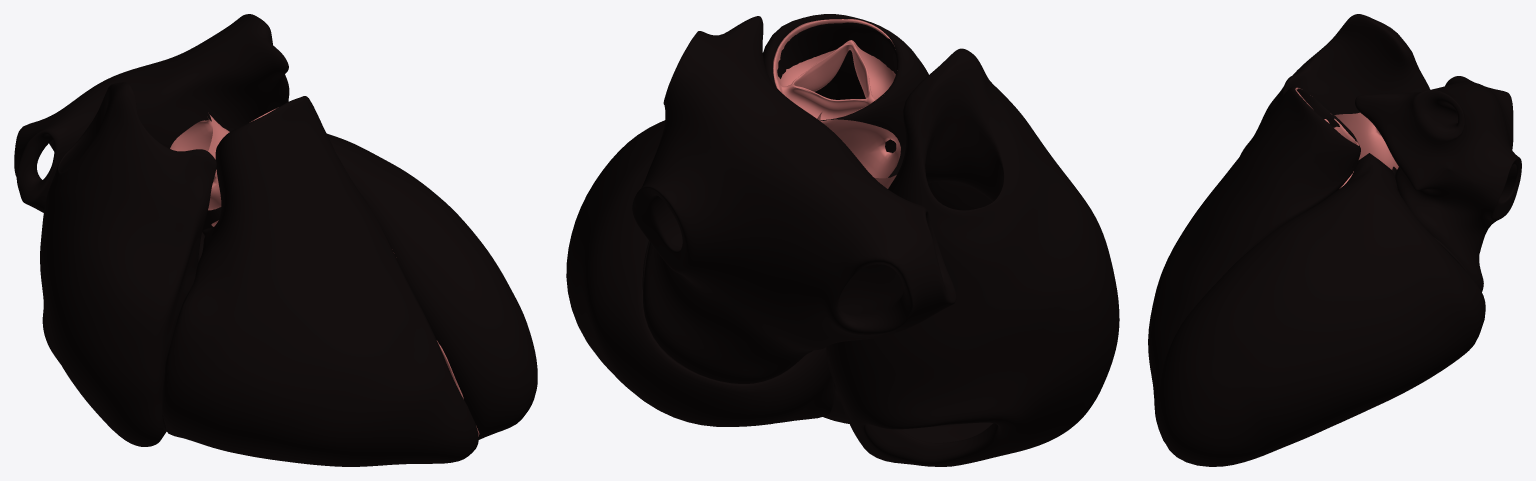
The model's file is heart_ar.glb.
3 renders of one model, left to right at view 1: azimuth 30°, elevation 25°; view 2: azimuth 150°, elevation 25°; view 3: azimuth 270°, elevation 25°, orthographic. The views are drawn at different scales.
Visible parts, largest first — view 1: VH_M_heart_right_ventricle, VH_M_right_cardiac_atrium, VH_M_heart_left_ventricle, VH_M_left_cardiac_atrium, VH_M_aortic_valve; view 2: VH_M_left_cardiac_atrium, VH_M_right_cardiac_atrium, VH_M_heart_left_ventricle, VH_M_heart_right_ventricle, VH_M_pulmonary_valve, VH_M_aortic_valve; view 3: VH_M_heart_left_ventricle, VH_M_heart_right_ventricle, VH_M_left_cardiac_atrium, VH_M_right_cardiac_atrium, VH_M_aortic_valve.
Part boxes in pixels (x1,y1,x2,y2): VH_M_heart_right_ventricle: (162, 96, 478, 466); VH_M_right_cardiac_atrium: (40, 82, 216, 446); VH_M_heart_left_ventricle: (202, 133, 537, 439); VH_M_left_cardiac_atrium: (14, 14, 289, 212); VH_M_aortic_valve: (170, 114, 229, 210); VH_M_left_cardiac_atrium: (632, 16, 956, 383); VH_M_right_cardiac_atrium: (826, 48, 1119, 466); VH_M_heart_left_ventricle: (566, 120, 833, 426); VH_M_heart_right_ventricle: (763, 14, 928, 423); VH_M_pulmonary_valve: (773, 19, 895, 119); VH_M_aortic_valve: (817, 112, 900, 188); VH_M_heart_left_ventricle: (1156, 153, 1485, 466); VH_M_heart_right_ventricle: (1148, 86, 1360, 442); VH_M_left_cardiac_atrium: (1355, 76, 1521, 291); VH_M_right_cardiac_atrium: (1240, 14, 1429, 155); VH_M_aortic_valve: (1334, 112, 1398, 169).
Bounding box in the file's own units: 0.1244 × 0.1054 × 0.1052.
